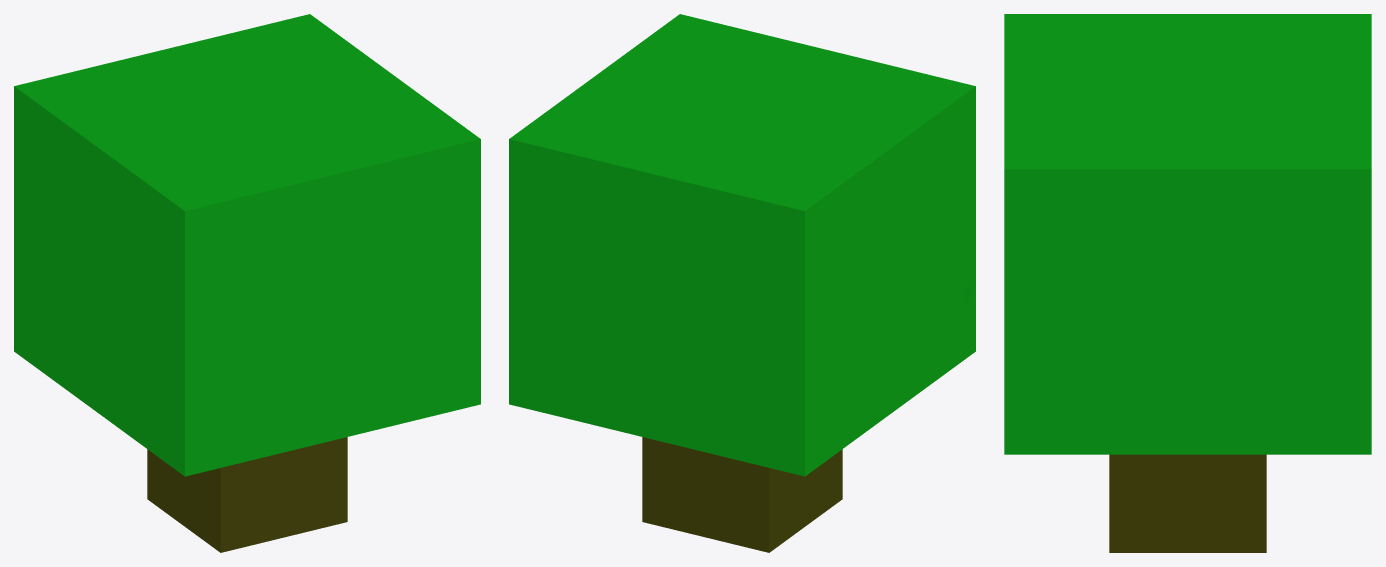
File: tree2.glb
3 views of the same model, side by side, from view 1: azimuth 30°, elevation 25°; view 2: azimuth 150°, elevation 25°; view 3: azimuth 270°, elevation 25° (orthographic). The views are drawn at different scales.
Parts seen in each view (by area): view 1: Куб; view 2: Куб; view 3: Куб.
Part boxes in pixels (x1,y1,x2,y2): Куб: [14, 14, 480, 552]; Куб: [509, 14, 975, 552]; Куб: [1004, 14, 1371, 552].
Bounding box in the file's own units: 2.8 × 3.6 × 2.8.
1 material, 1 textured.
